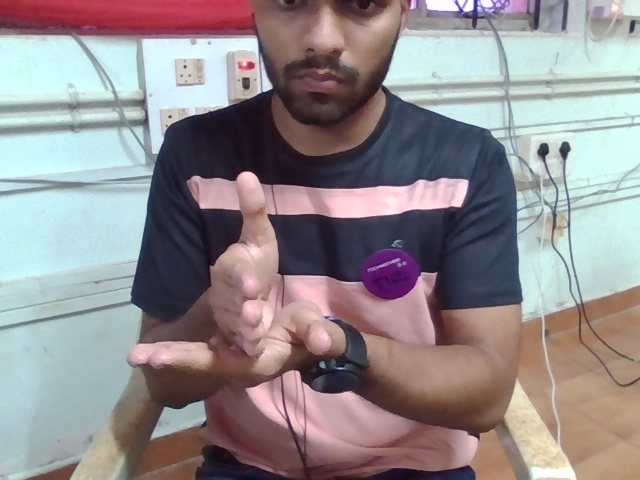stop: (112, 153, 352, 420)
